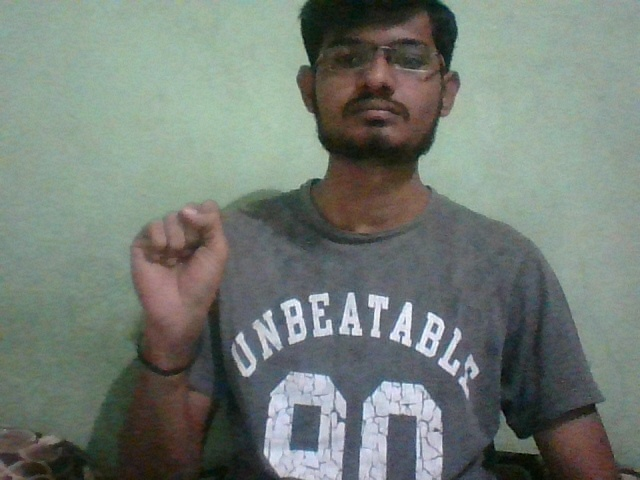yes: (109, 190, 265, 335)
